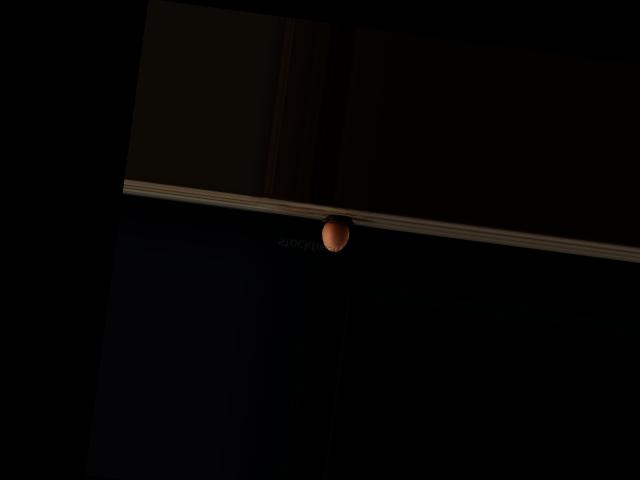egg: (320, 220, 351, 253)
